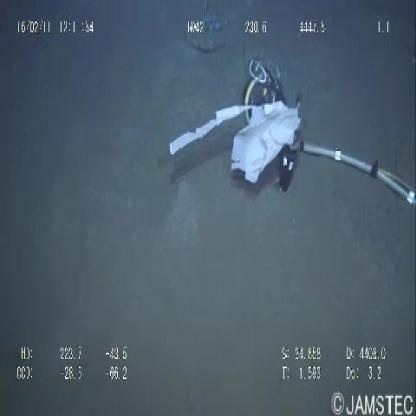Rác: (166, 94, 302, 189)
